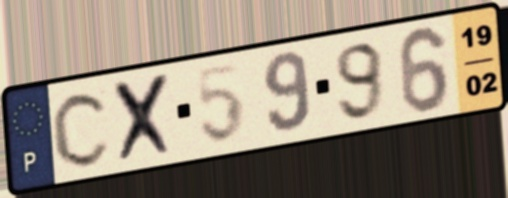5: (194, 62, 249, 147)
6: (397, 22, 449, 116)
9: (260, 48, 314, 138), (332, 39, 388, 121)
C: (49, 88, 114, 170)
X: (110, 69, 180, 167)
